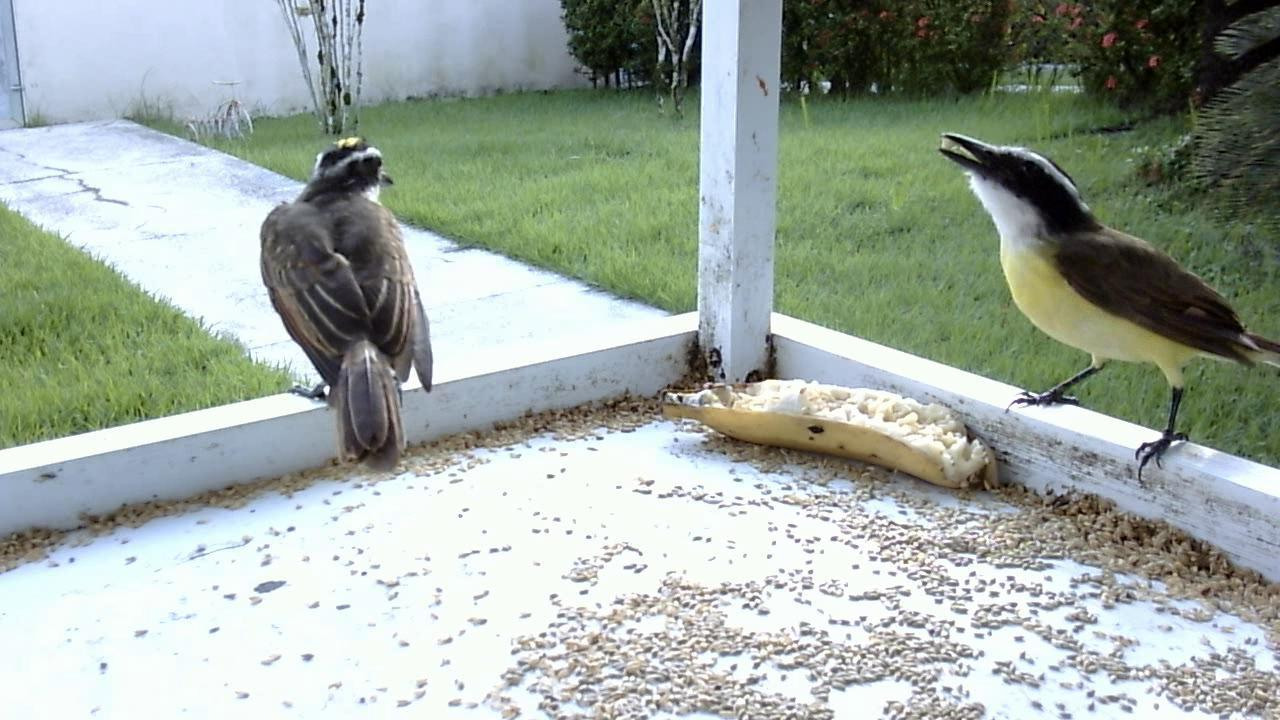bem_te_vi: (920, 122, 1280, 486), (252, 126, 431, 469)
